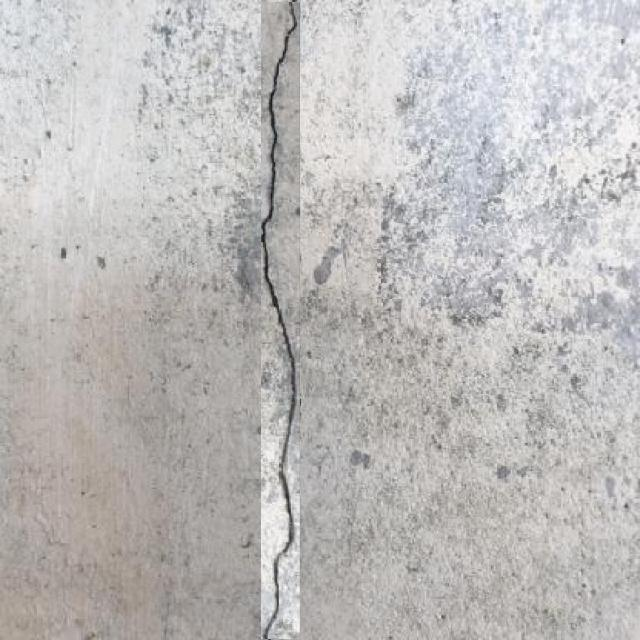vertical crack: (262, 2, 298, 639)
